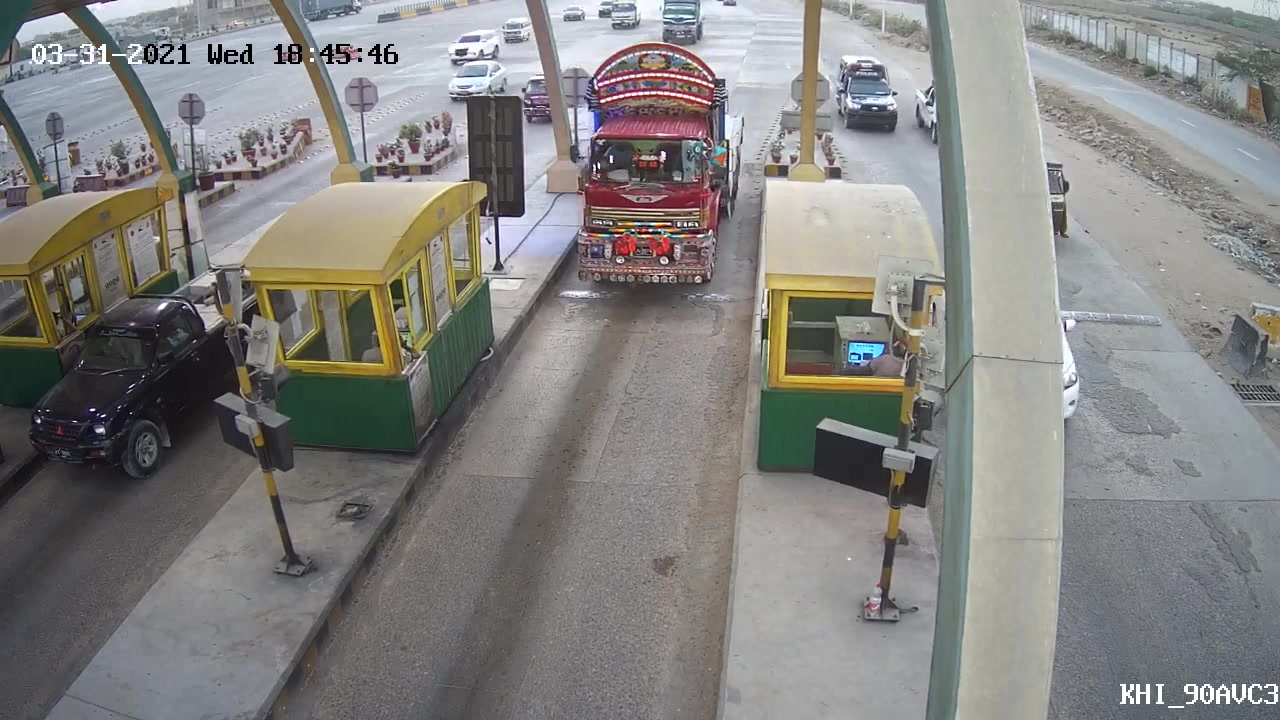F5: (557, 39, 757, 301)
